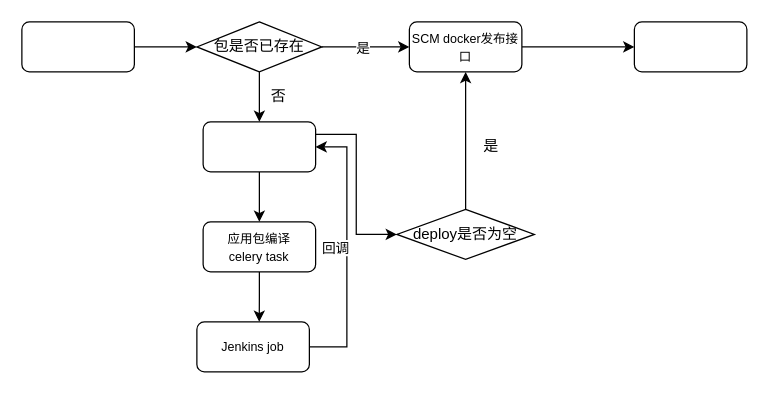
Image size: 769x394. Some labels were removed from this diagram. The shapes that lost their labels are listed below. From the top down, each one's box as (x1, y1, x2, y2) in pixels, then its label:
(21, 21, 134, 72): docker编译发布
(633, 21, 747, 72): 调用TestOps发布接口
(202, 121, 316, 172): caocao_release API
